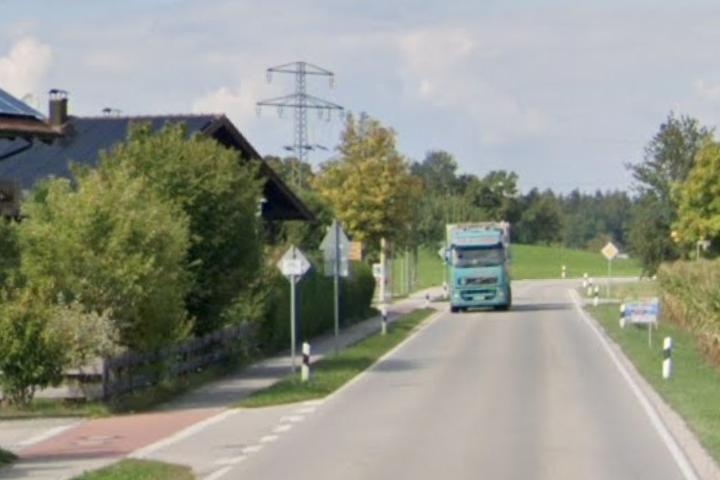traffic_sign: (600, 240, 619, 261)
vehicle: (442, 220, 514, 313)
